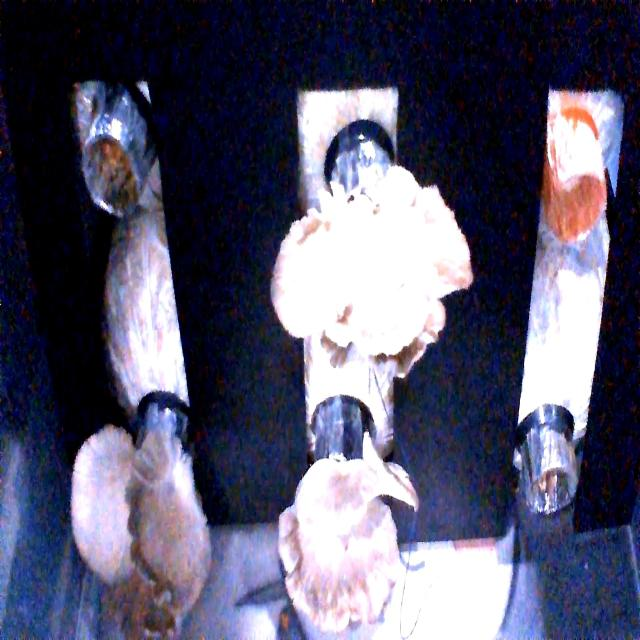big: (265, 173, 462, 362), (74, 426, 209, 610), (282, 455, 404, 633)
nfound: (69, 130, 144, 218), (549, 163, 609, 249), (514, 446, 576, 522)
